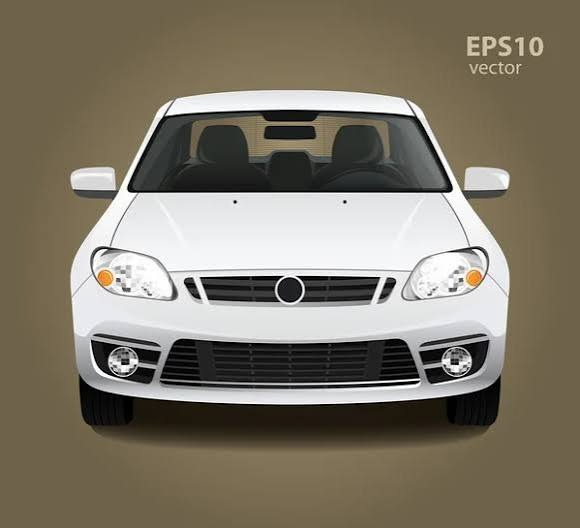car: (66, 94, 495, 414)
